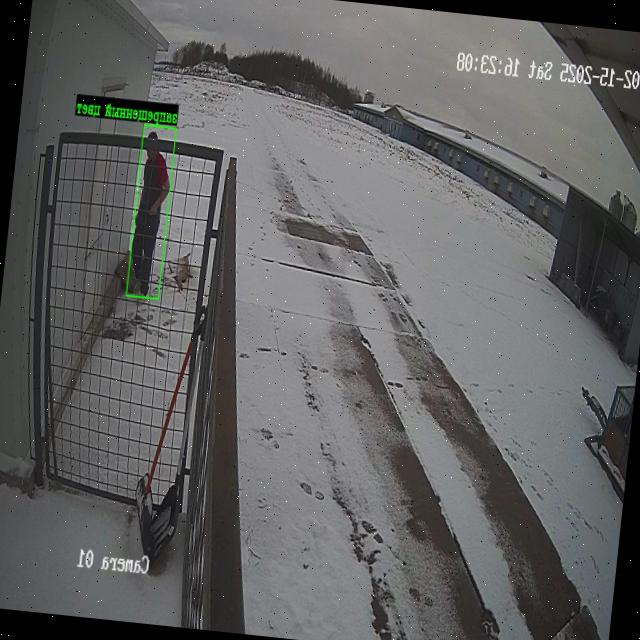Red uniform: (131, 132, 169, 295)
